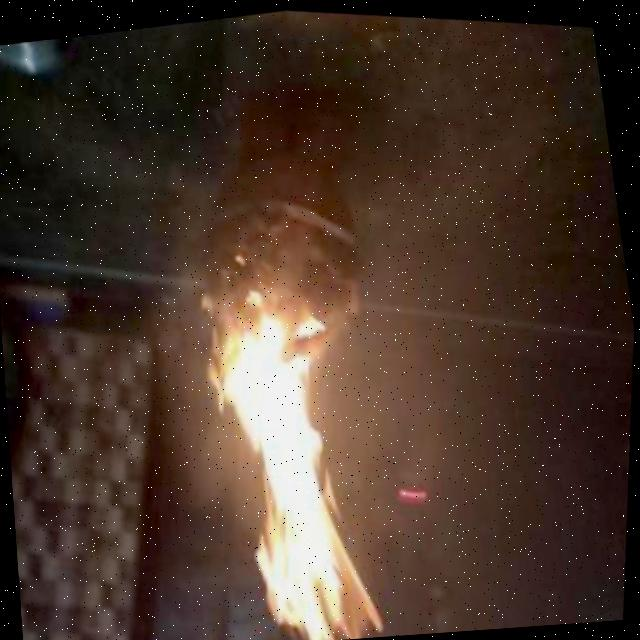fire: (183, 289, 398, 640)
